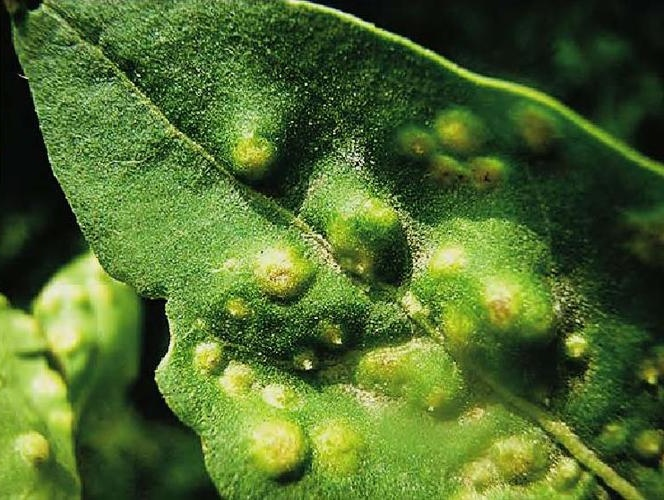Gall_Mite: (208, 74, 553, 388), (219, 341, 446, 480), (502, 377, 641, 466)
